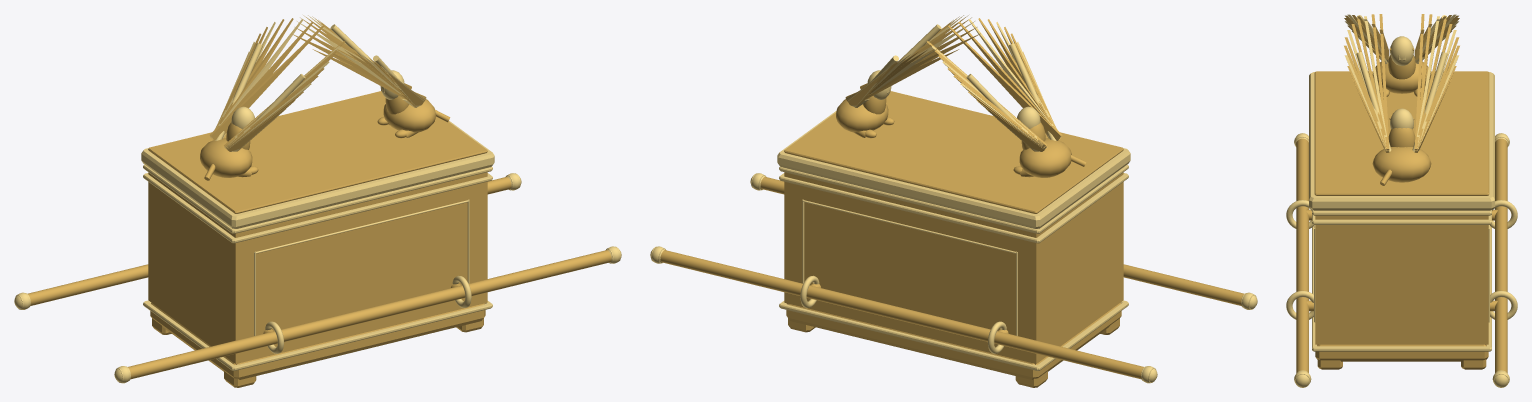
The model's file is ark.glb.
3 views of the same model, side by side, from view 1: azimuth 30°, elevation 25°; view 2: azimuth 150°, elevation 25°; view 3: azimuth 270°, elevation 25° (orthographic).
Visible parts, largest first — view 1: Gold overlay, Gold overlay · cover and cherubim, Polished gold · cover and cherubim, Polished gold; view 2: Gold overlay, Gold overlay · cover and cherubim, Polished gold · cover and cherubim, Polished gold; view 3: Gold overlay, Gold overlay · cover and cherubim, Polished gold · cover and cherubim, Polished gold.
Part boxes in pixels (<box>): Gold overlay: <box>27,172,611,387</box>; Gold overlay · cover and cherubim: <box>148,15,487,213</box>; Polished gold · cover and cherubim: <box>141,15,494,228</box>; Polished gold: <box>14,164,621,383</box>; Gold overlay: <box>660,172,1244,387</box>; Gold overlay · cover and cherubim: <box>784,15,1123,213</box>; Polished gold · cover and cherubim: <box>777,15,1130,228</box>; Polished gold: <box>650,164,1257,383</box>; Gold overlay: <box>1296,138,1507,372</box>; Gold overlay · cover and cherubim: <box>1314,14,1489,195</box>; Polished gold · cover and cherubim: <box>1309,14,1494,210</box>; Polished gold: <box>1286,133,1517,387</box>.
Size of the model in its own units: 5.01 by 2.79 by 2.01.
